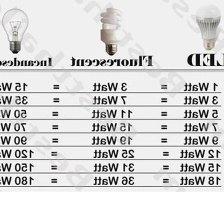light_bulb: (193, 1, 224, 52), (97, 4, 127, 56), (0, 6, 31, 55)
